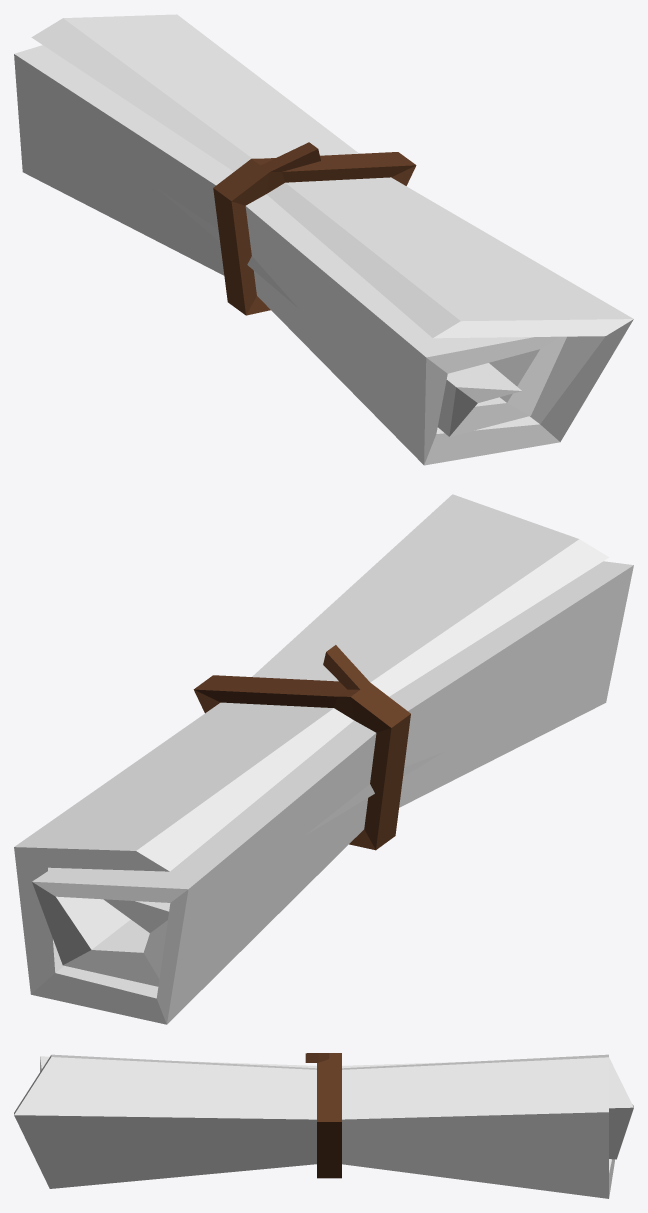
File: paper03.obj
3 views of the same model, one above another, from view 1: azimuth 30°, elevation 25°; view 2: azimuth 150°, elevation 25°; view 3: azimuth 270°, elevation 25° (orthographic). The views are drawn at different scales.
Parts seen in each view (by area): view 1: Cube_Cube.001; view 2: Cube_Cube.001; view 3: Cube_Cube.001.
Part boxes in pixels (x1=…): Cube_Cube.001: x1=14, y1=14, x2=633, y2=465; Cube_Cube.001: x1=14, y1=494, x2=633, y2=1024; Cube_Cube.001: x1=14, y1=1053, x2=633, y2=1198.
Bounding box in the file's own units: 0.0411 × 0.037 × 0.1674.
